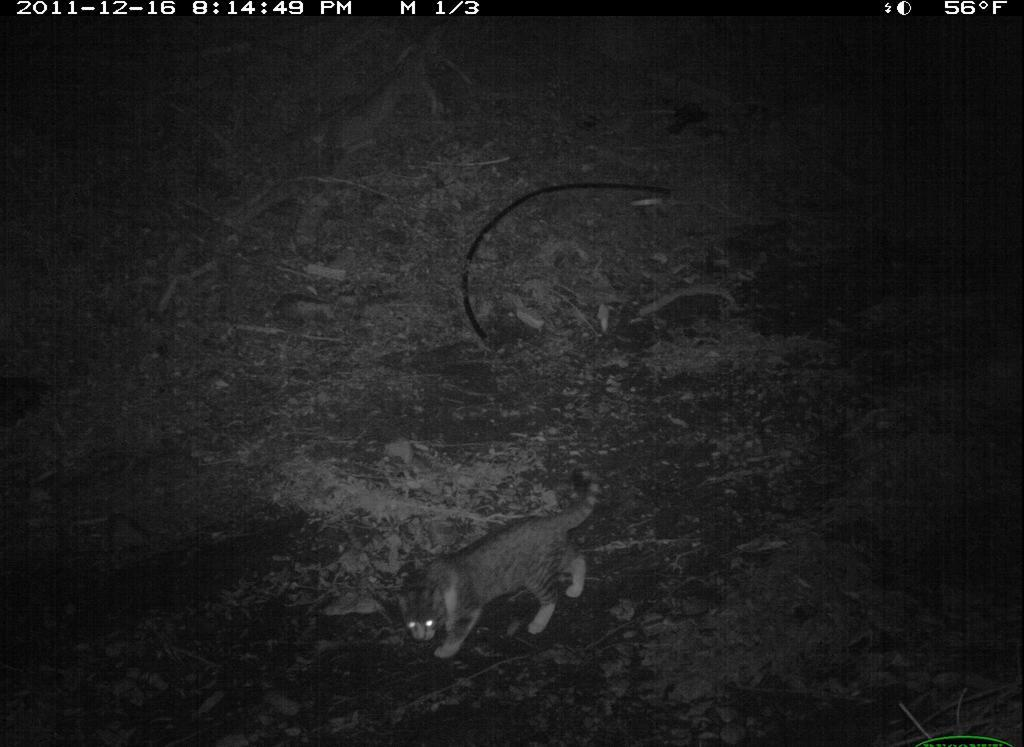cat: (381, 459, 628, 667)
